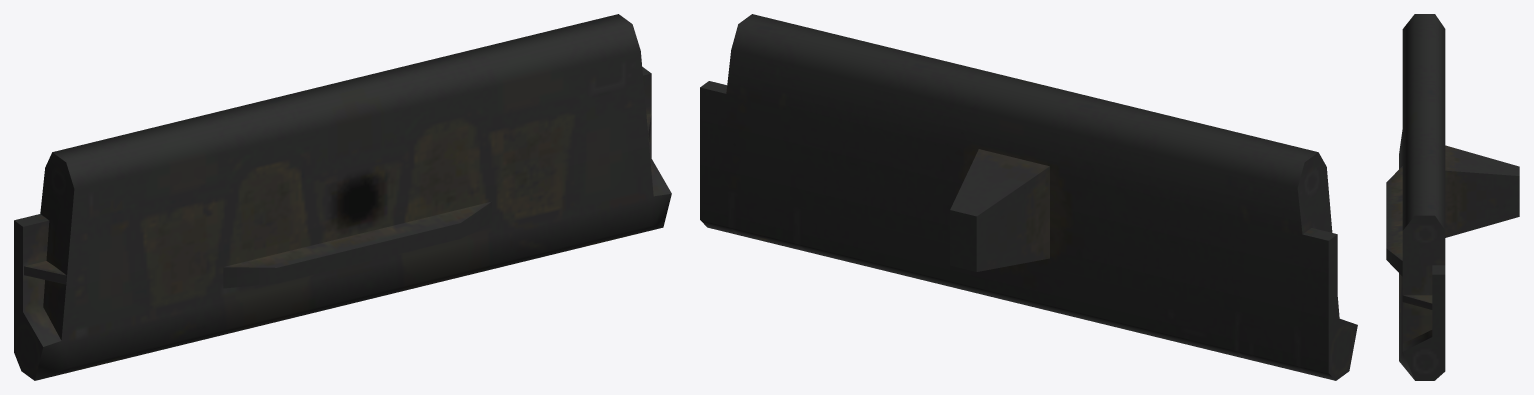
3 views of the same model, side by side, from view 1: azimuth 30°, elevation 25°; view 2: azimuth 150°, elevation 25°; view 3: azimuth 270°, elevation 25° (orthographic). The views are drawn at different scales.
Parts seen in each view (by area): view 1: set_0_group_0; view 2: set_0_group_0; view 3: set_0_group_0.
Part boxes in pixels (x1,y1,x2,y2): set_0_group_0: (14,14,671,380); set_0_group_0: (700,14,1357,380); set_0_group_0: (1386,14,1519,380).
Bounding box in the file's own units: 0.5735 × 0.1841 × 0.1447.
1 material, 1 textured.
